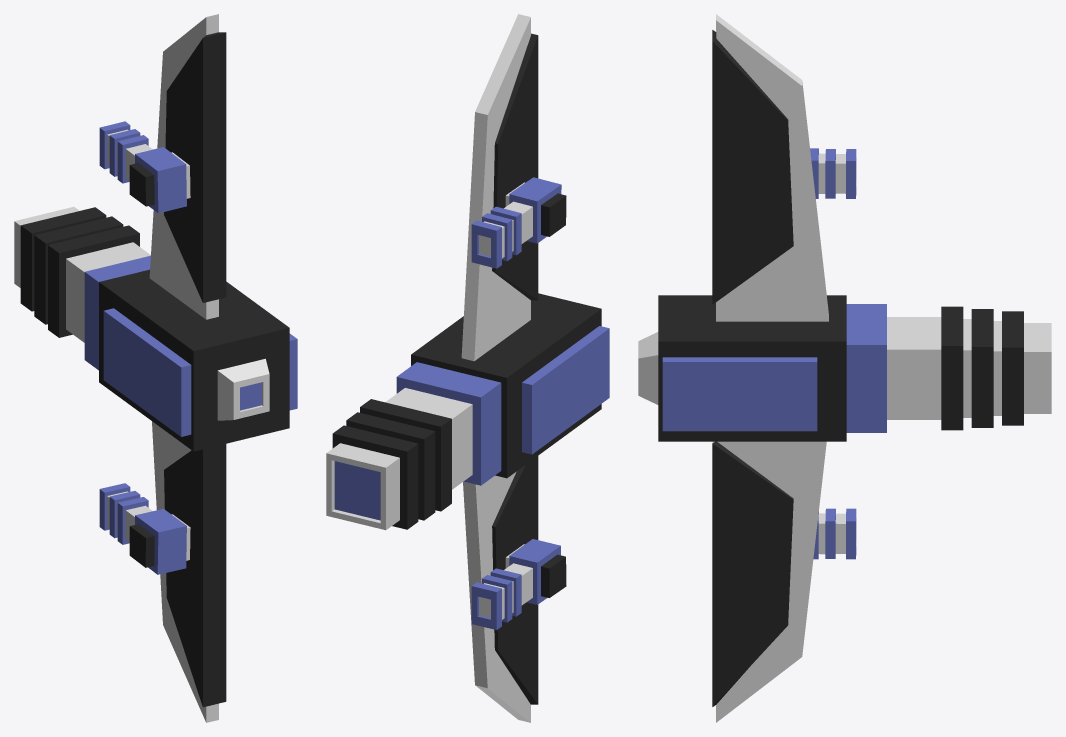
The model's file is Boss.fbx.
The picture shows the model from 3 angles, left to right: view 1: azimuth 30°, elevation 25°; view 2: azimuth 150°, elevation 25°; view 3: azimuth 270°, elevation 25°; orthographic projection.
Parts seen in each view (by area): view 1: Boss; view 2: Boss; view 3: Boss.
Boxes of the visible parts, x1=… form: Boss: x1=14, y1=14, x2=297, y2=722; Boss: x1=326, y1=14, x2=609, y2=722; Boss: x1=638, y1=14, x2=1051, y2=722.
Bounding box in the file's own units: 432 × 2504 × 1334.
